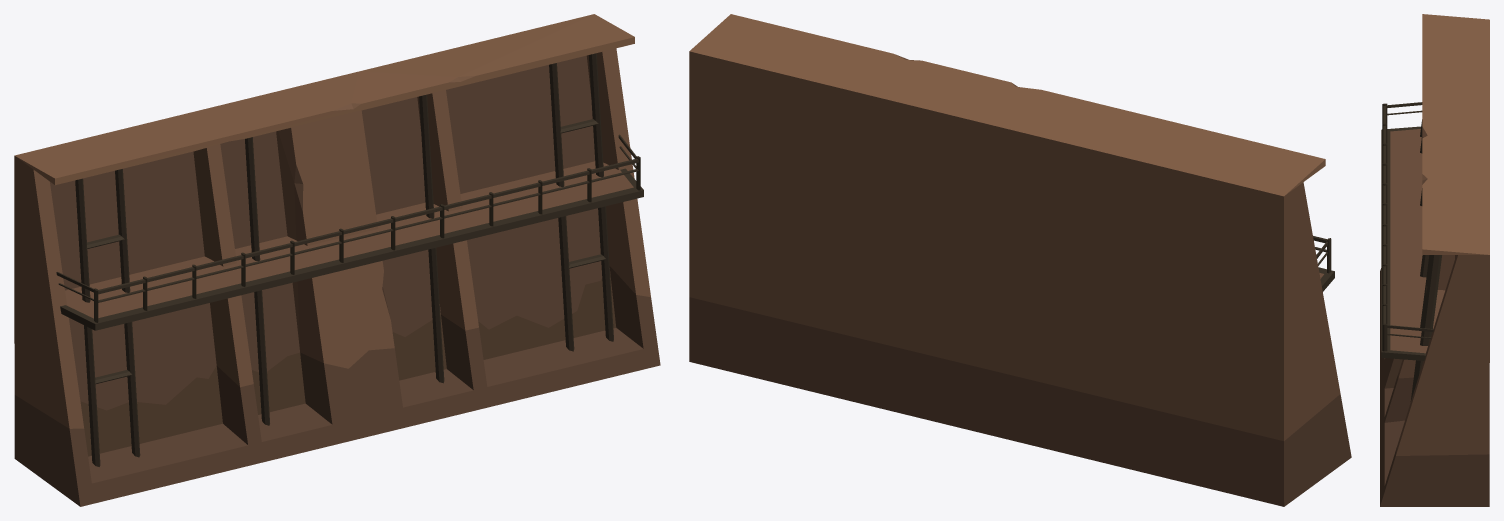
File: SM_Env_Port_Drydock_Small_NoRail_01.fbx
3 views of the same model, side by side, from view 1: azimuth 30°, elevation 25°; view 2: azimuth 150°, elevation 25°; view 3: azimuth 270°, elevation 25° (orthographic). The views are drawn at different scales.
Parts seen in each view (by area): view 1: SM_Env_Port_Drydock_Small_NoRail_01; view 2: SM_Env_Port_Drydock_Small_NoRail_01; view 3: SM_Env_Port_Drydock_Small_NoRail_01.
Part boxes in pixels (bbox=[...]): SM_Env_Port_Drydock_Small_NoRail_01: bbox=[14, 14, 660, 506]; SM_Env_Port_Drydock_Small_NoRail_01: bbox=[689, 14, 1351, 506]; SM_Env_Port_Drydock_Small_NoRail_01: bbox=[1380, 14, 1489, 506].
Size of the model in its own units: 1000 by 510 by 197.
